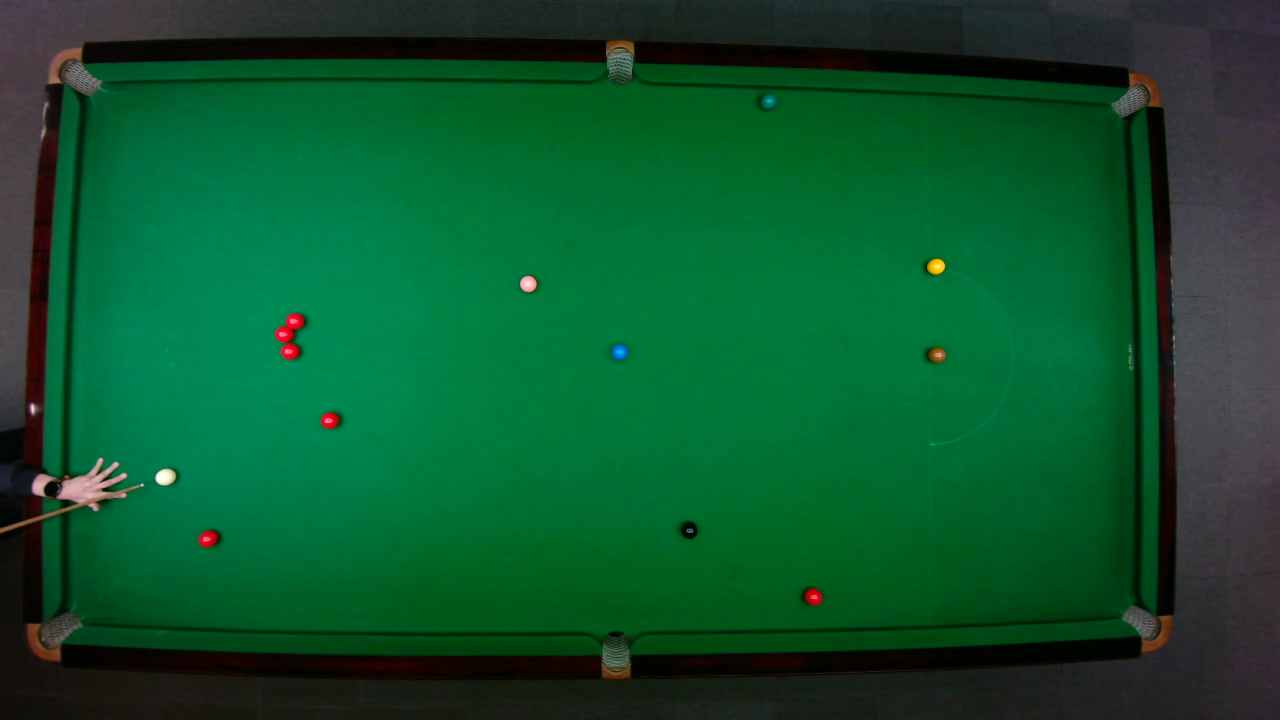bag: (25, 609, 84, 661), (46, 46, 102, 96), (1119, 603, 1171, 652), (1108, 71, 1161, 118), (600, 629, 629, 680), (605, 38, 633, 85)
black: (679, 520, 697, 539)
blue: (610, 342, 628, 360)
brown: (926, 346, 946, 362)
cue: (0, 480, 146, 536)
green: (759, 93, 776, 110)
pink: (518, 274, 537, 293)
red: (196, 528, 219, 547), (803, 586, 823, 606), (284, 311, 305, 330), (273, 324, 293, 342), (319, 411, 339, 429), (279, 342, 300, 359)
white: (153, 466, 178, 485)
yellow: (925, 257, 945, 274)
zone: (926, 266, 1013, 445)
